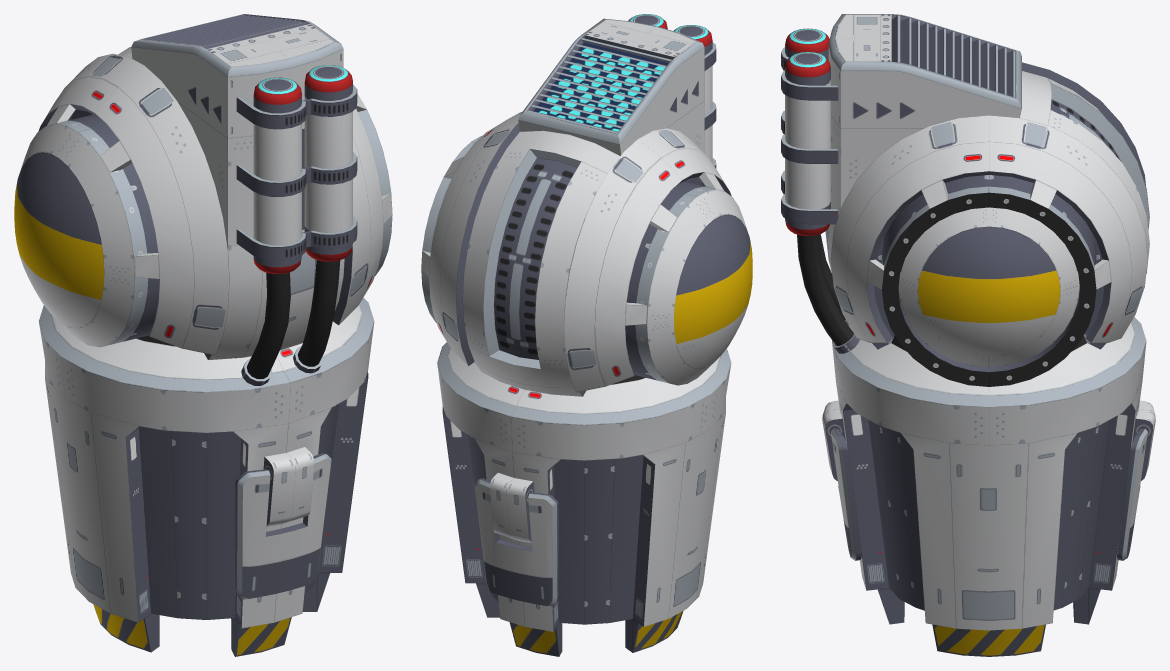
File: Reactor_05_Front.FBX
3 views of the same model, side by side, from view 1: azimuth 30°, elevation 25°; view 2: azimuth 150°, elevation 25°; view 3: azimuth 270°, elevation 25° (orthographic). The views are drawn at different scales.
Parts seen in each view (by area): view 1: Reactor_05_Front, Flap_02; view 2: Reactor_05_Front, Flap_01; view 3: Reactor_05_Front, Flap_01, Flap_02.
Part boxes in pixels (bbox=[...]): Reactor_05_Front: bbox=[14, 14, 392, 656]; Flap_02: bbox=[235, 453, 331, 599]; Reactor_05_Front: bbox=[421, 14, 752, 656]; Flap_01: bbox=[474, 478, 559, 606]; Reactor_05_Front: bbox=[781, 14, 1155, 656]; Flap_01: bbox=[1117, 428, 1147, 560]; Flap_02: bbox=[830, 428, 861, 560].
Bounding box in the file's own units: 48.02 × 86.52 × 51.09.
Materials: 5 (5 with a texture image).
